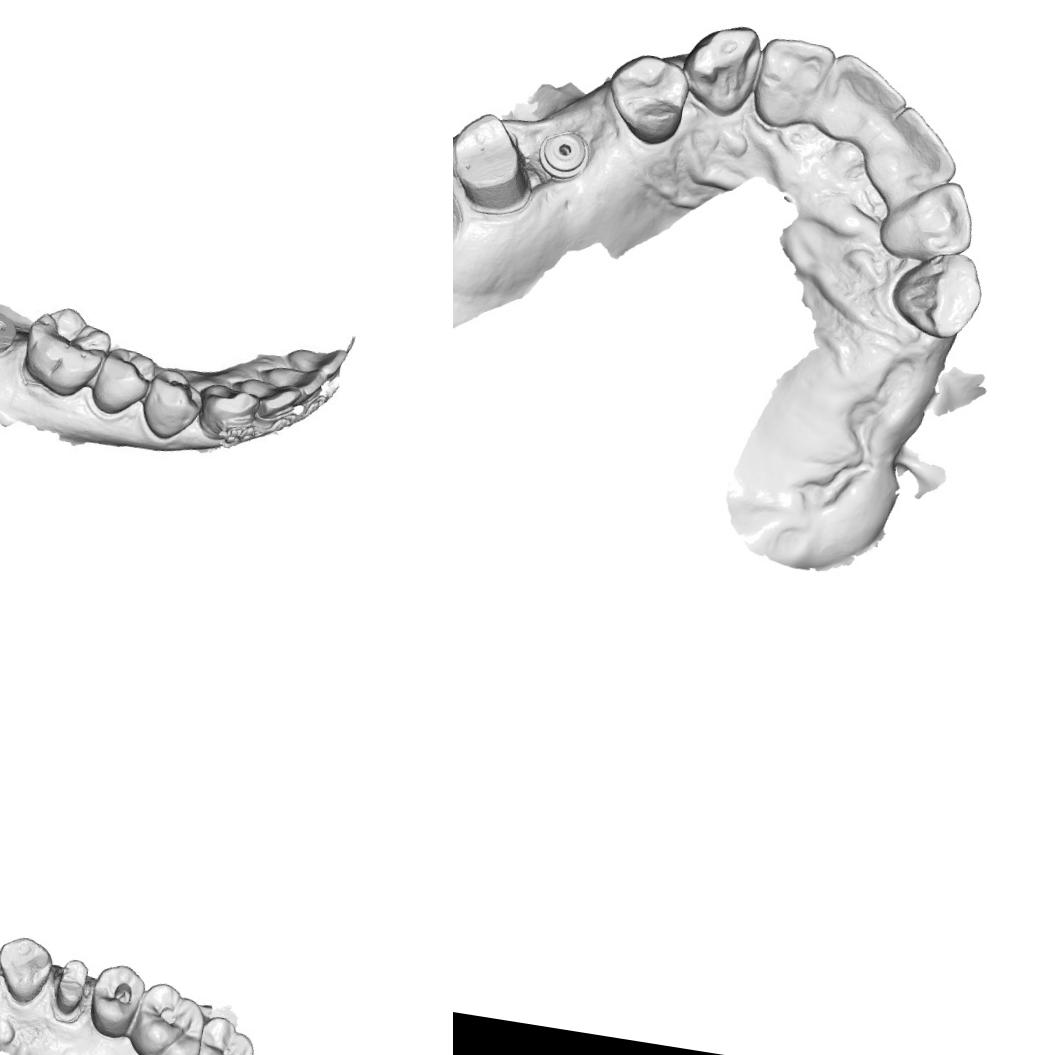canine: (883, 243, 993, 345), (679, 18, 771, 122), (0, 931, 58, 1010), (194, 375, 256, 447)
crown: (453, 104, 539, 219), (48, 955, 92, 1024)
implant: (532, 124, 600, 186), (0, 306, 20, 360)
incisor: (874, 168, 982, 271), (746, 30, 834, 136), (874, 99, 966, 194), (819, 48, 918, 136), (258, 358, 330, 406), (237, 375, 296, 422), (284, 340, 351, 380)
molar: (16, 300, 117, 402), (126, 976, 213, 1055), (189, 1012, 263, 1055)
premolar: (599, 47, 696, 152), (82, 339, 155, 422), (82, 956, 150, 1042), (136, 358, 204, 442)
